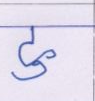u_matra: (11, 61, 48, 82)
